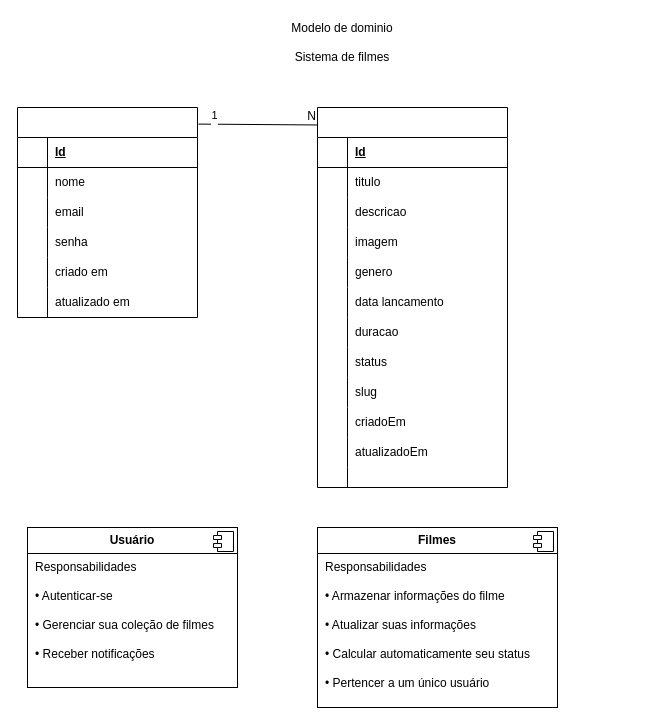
Some shapes in this 655 by 725 pixel diagram are drawn without their labels. The box of each missing label's shape, as (x1, y1, x2, y2) in pixels:
Filme: (316, 106, 508, 488)
Usuário: (16, 106, 198, 318)
